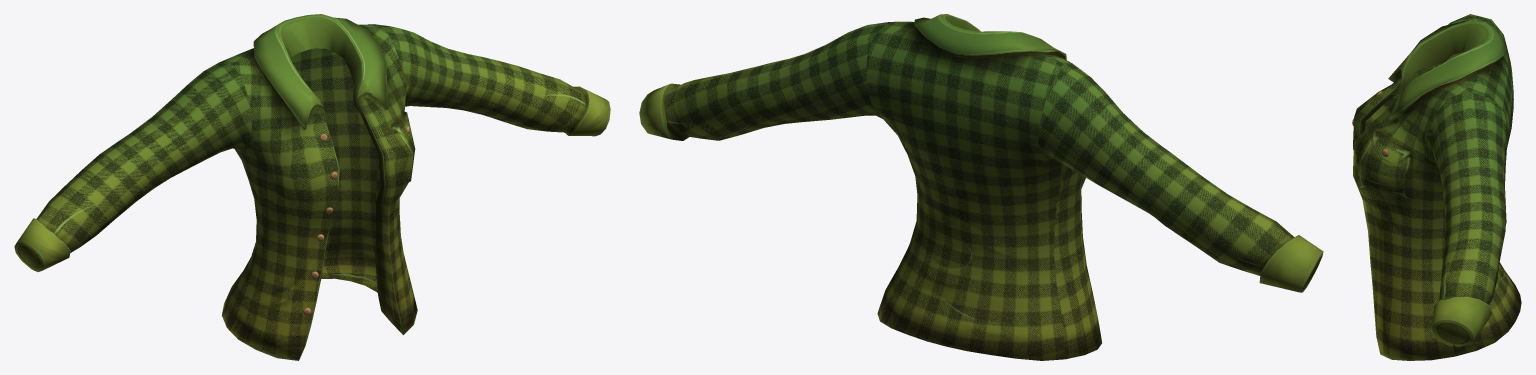
File: shirt3.fbx
3 renders of one model, left to right at view 1: azimuth 30°, elevation 25°; view 2: azimuth 150°, elevation 25°; view 3: azimuth 270°, elevation 25°, orthographic. The views are drawn at different scales.
Parts seen in each view (by area): view 1: shirt3; view 2: shirt3; view 3: shirt3.
Part boxes in pixels (x1,y1,x2,y2): shirt3: (14,14,610,360); shirt3: (639,14,1323,360); shirt3: (1352,14,1521,360).
Size of the model in its own units: 119 by 56.46 by 29.32.
